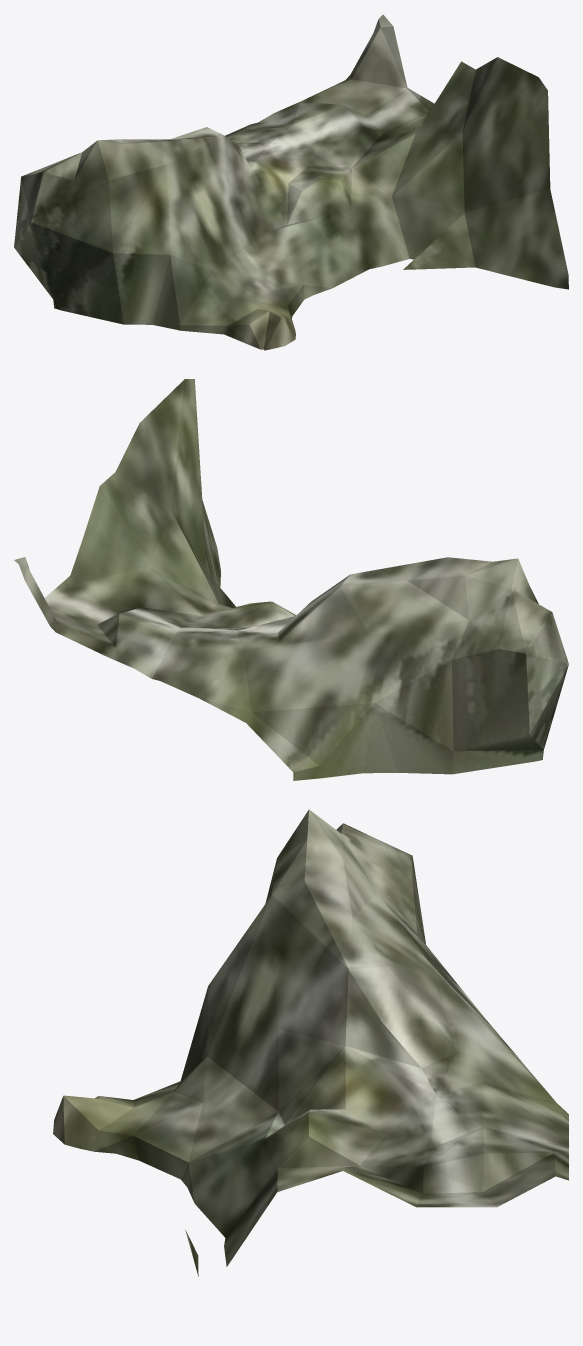
The picture shows the model from 3 angles, top to bottom: view 1: azimuth 30°, elevation 25°; view 2: azimuth 150°, elevation 25°; view 3: azimuth 270°, elevation 25°; orthographic projection. The views are drawn at different scales.
Bounding box in the file's own units: 1.63 × 0.6922 × 1.23.
Materials: 1 (1 with a texture image).
